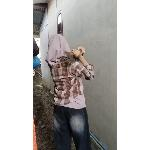Kapak: (63, 46, 87, 63)
